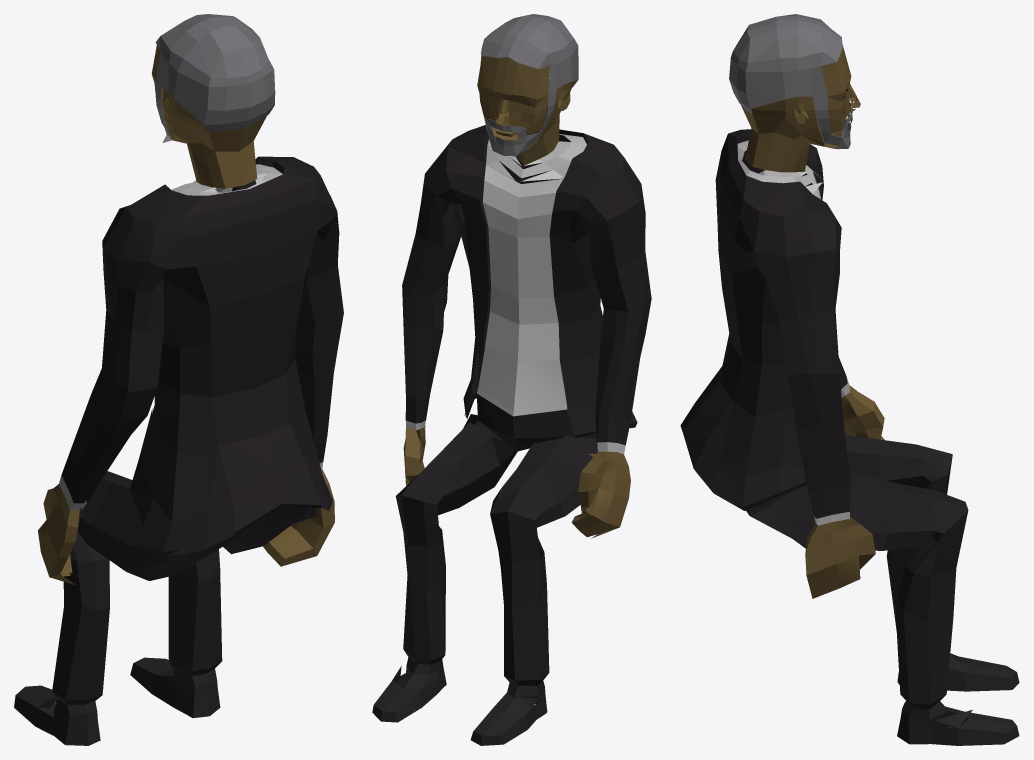
The model's file is person_4_sit.fbx.
3 views of the same model, side by side, from view 1: azimuth 30°, elevation 25°; view 2: azimuth 150°, elevation 25°; view 3: azimuth 270°, elevation 25° (orthographic). The views are drawn at different scales.
Visible parts, largest first — view 1: BaseHuman; view 2: BaseHuman; view 3: BaseHuman.
Part boxes in pixels (x1,y1,x2,y2): BaseHuman: (14,14,343,745); BaseHuman: (372,14,651,745); BaseHuman: (680,14,1019,745).
Bounding box in the file's own units: 0.3723 × 1 × 0.4439.
